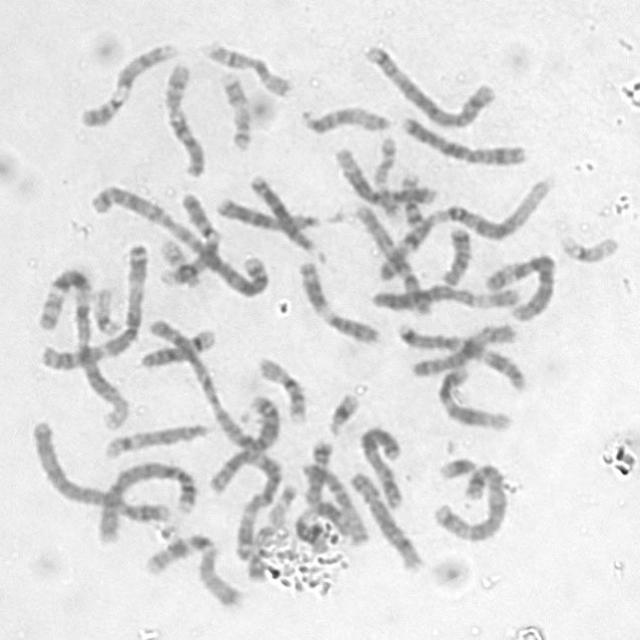A1: (370, 172, 555, 283), (34, 260, 132, 431)
A2: (81, 178, 270, 299), (142, 311, 286, 454)
A3: (33, 235, 151, 372), (214, 444, 280, 579)
B4: (23, 413, 175, 524), (90, 454, 200, 546)
B5: (358, 37, 498, 129), (428, 457, 512, 543)
C10: (348, 197, 436, 317), (156, 55, 208, 178)
C11: (292, 252, 382, 347), (292, 491, 356, 556)
C12: (326, 140, 436, 208), (432, 360, 514, 433)
C6: (478, 245, 558, 322), (363, 276, 524, 314)
C7: (392, 317, 528, 391), (137, 524, 245, 610)
C8: (344, 465, 426, 573), (414, 321, 522, 378)
C9: (72, 34, 180, 128), (154, 187, 222, 289)
D13: (242, 167, 328, 263), (208, 190, 322, 234)
D14: (100, 416, 211, 461), (134, 320, 216, 370)
D15: (296, 456, 370, 546), (294, 98, 394, 136)
E16: (198, 34, 294, 99), (250, 349, 310, 425)
E17: (213, 65, 254, 152), (368, 129, 402, 220)
E18: (298, 434, 336, 508), (434, 218, 474, 286)
F19: (552, 225, 622, 264), (88, 279, 125, 337)
F20: (394, 168, 428, 230), (246, 532, 276, 584)
G21: (322, 384, 362, 436), (432, 448, 479, 481)
G22: (154, 229, 202, 288), (260, 478, 298, 528)
X: (394, 109, 530, 168), (354, 419, 406, 510)
